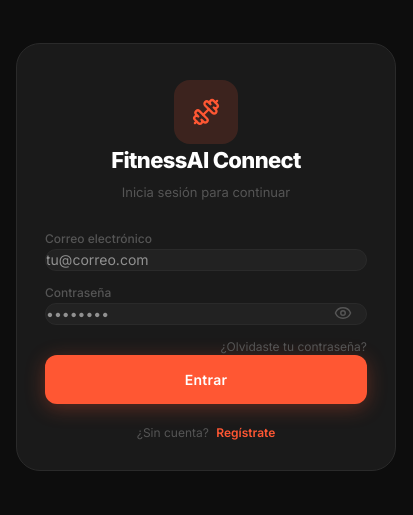
Test: Login — registro › pide el nombre y crea la cuenta
The width and height of the screenshot is (413, 515).
Click the button "Regístrate" at (246, 433), box [216, 424, 275, 442]
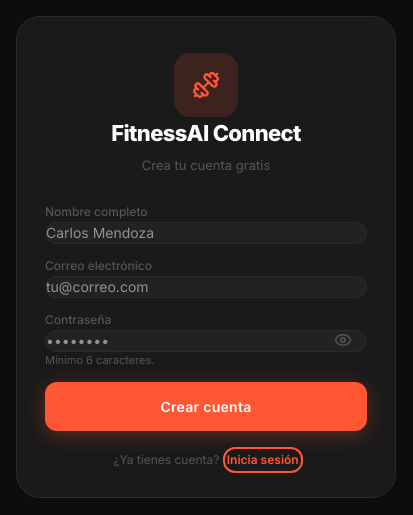
Type "Ana Torres" into the field labelled "Nombre completo" at (206, 232), box [45, 222, 367, 244]
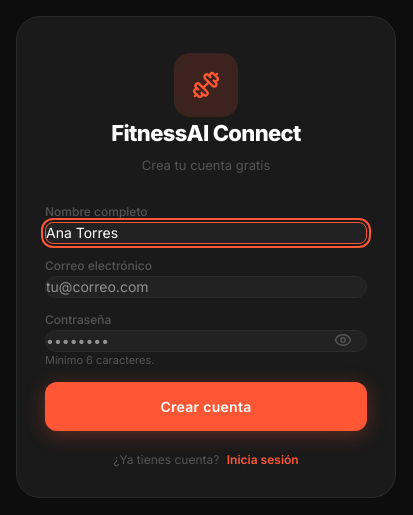
Type "ana@example.com" into the field labelled "Correo electrónico" at (206, 286), box [45, 276, 367, 298]
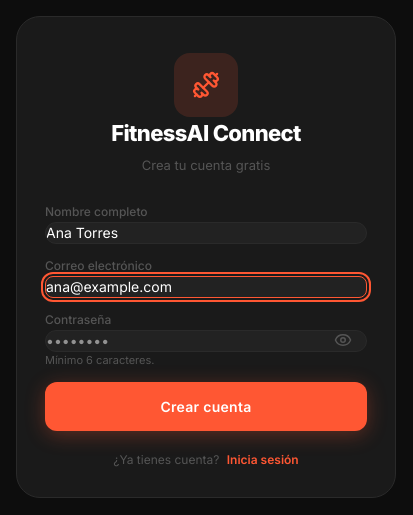
Type "secreto123" into the password field labelled "Contraseña" at (206, 340), box [45, 330, 367, 352]
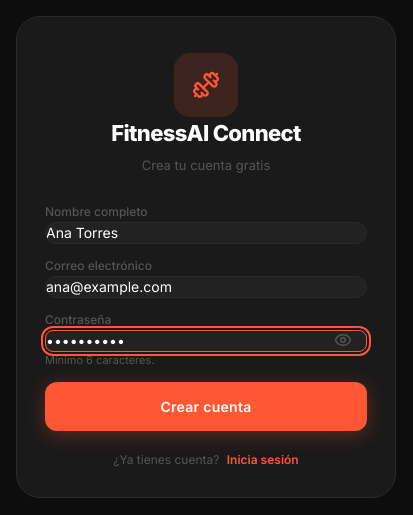
Click the button "Crear cuenta" at (206, 406), box [45, 382, 367, 431]
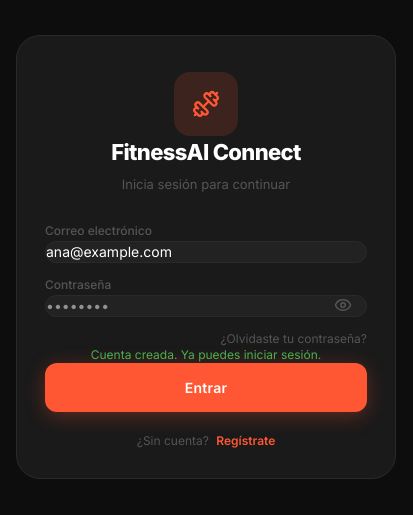
expect the text "Cuenta creada. Ya puedes iniciar sesión." is shown: met, box [91, 347, 321, 362]
